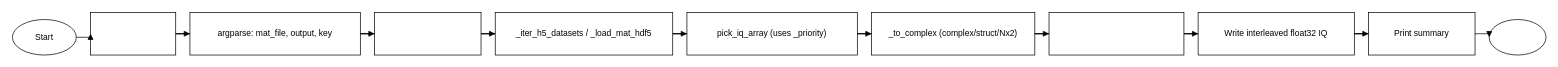
The diagram is 1558 pixels wide and 67 high, and some of its shapes have lost their labels. Each missing label, with the centre of its shape:
"End" goes at point (1517, 37).
"interleave_and_write" goes at point (1116, 33).
"load_mat_file" goes at point (427, 33).
"main()" goes at point (133, 33).
